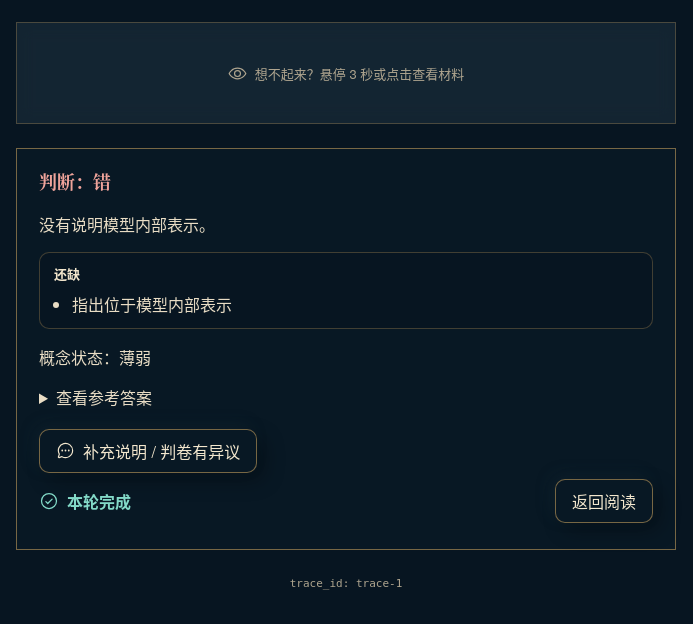
Test: AssessmentPanel › submits one supplemental explanation and renders the revised judgement
The image size is (693, 624).
(page scrolled)
Click the button "补充说明 / 判卷有异议" at (148, 450), box [39,428,257,472]
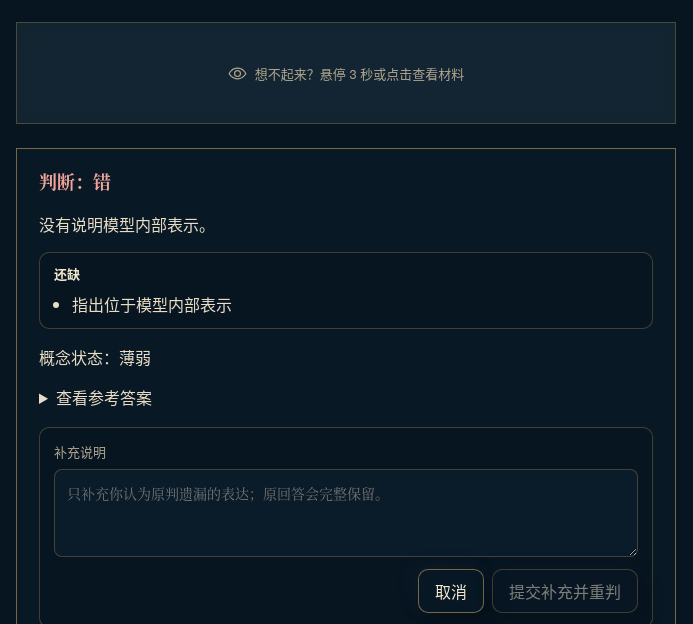
Type "我指的是模型内部的隐式表示。" into the text box labelled "补充说明" at (346, 512), box [54,468,638,556]
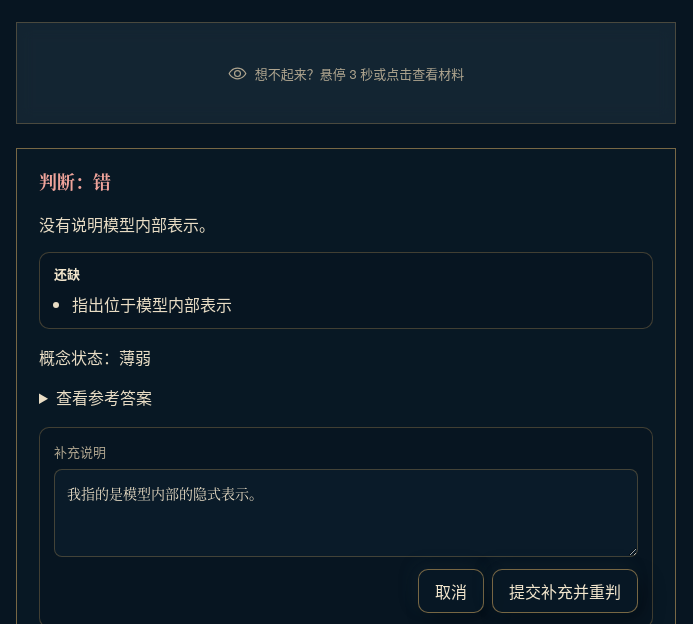
Click the button "提交补充并重判" at (565, 590), box [492,568,638,612]
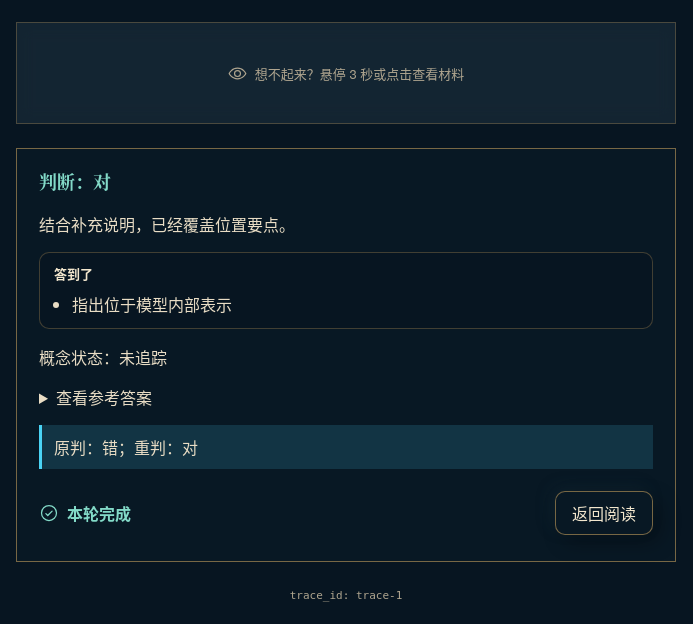
Expected: the button "补充说明 / 判卷有异议" is not shown
Result: the text "结合补充说明，已经覆盖位置要点。" is shown at [39,213,295,236]
Result: the text "原判：错；重判：对" is shown at [39,424,653,468]
